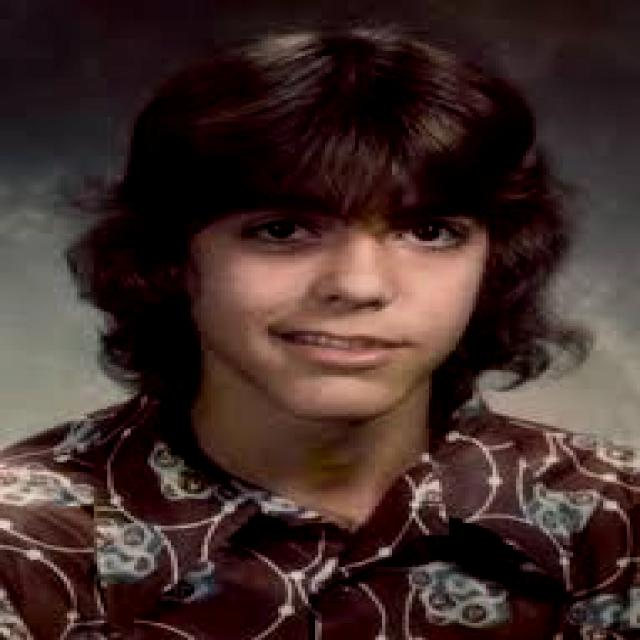normal_face: (160, 115, 502, 428)
